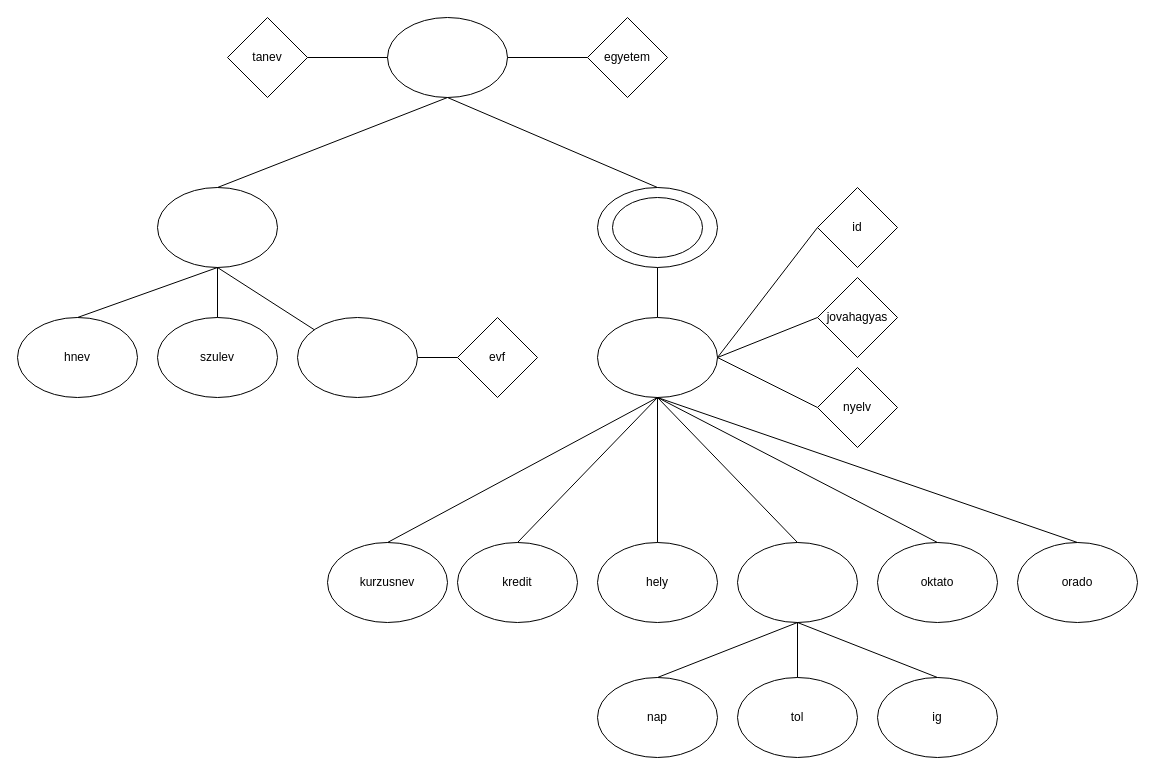
Image size: 1155x775. Some labels were removed from this diagram. The centre of each missing label's shape, as x and y in pixels:
"hallgato" belongs at (217,227).
"idopont" belongs at (797,582).
"kurzus" belongs at (657,357).
"Kurzusfelvetel" belongs at (447,57).
"kurzusok" belongs at (657,227).
"szak" belongs at (357,357).
